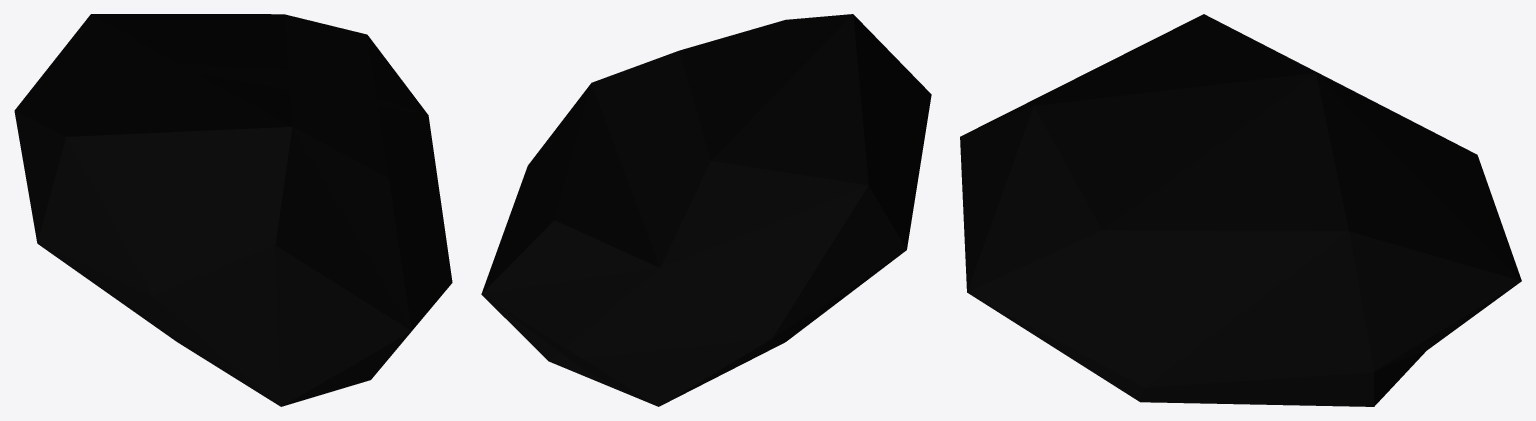
The picture shows the model from 3 angles, left to right: view 1: azimuth 30°, elevation 25°; view 2: azimuth 150°, elevation 25°; view 3: azimuth 270°, elevation 25°; orthographic projection. The views are drawn at different scales.
Size of the model in its own units: 0.2249 by 0.2125 by 0.3409.
Materials: 1 (1 with a texture image).
